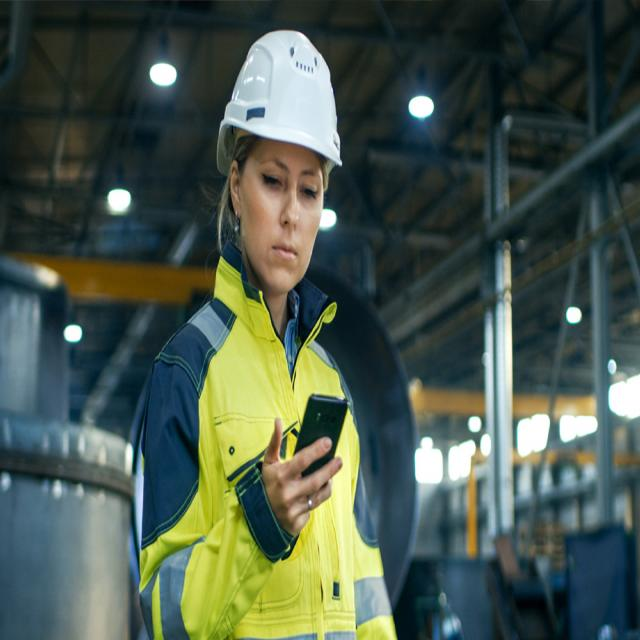Reflective-Jacket: (134, 277, 404, 640)
Safety-Helmet: (214, 25, 346, 174)
